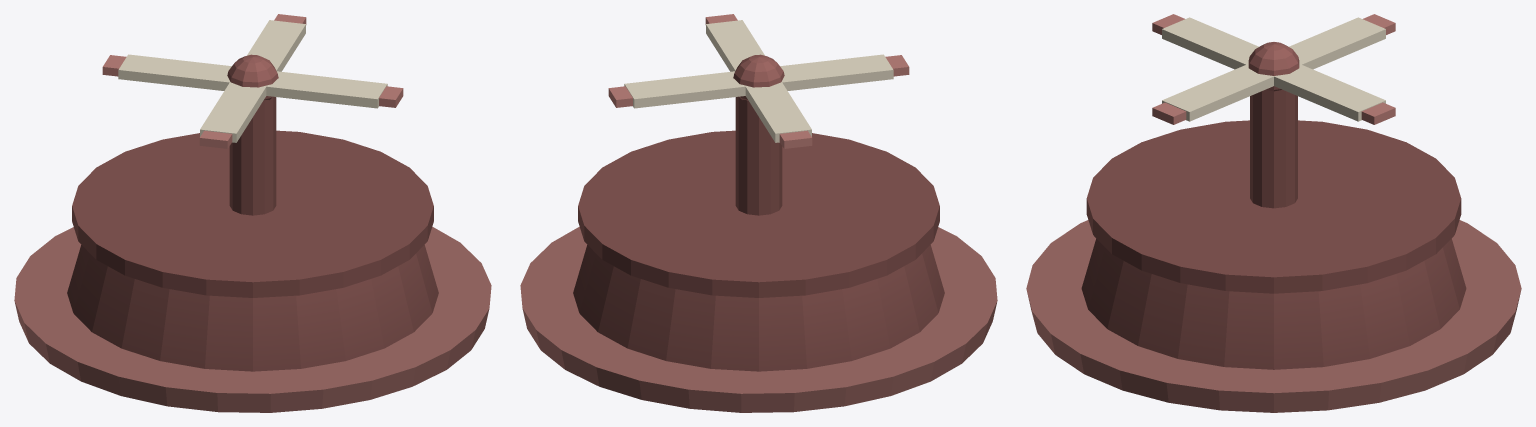
The model's file is propeller.glb.
The picture shows the model from 3 angles, left to right: view 1: azimuth 30°, elevation 25°; view 2: azimuth 150°, elevation 25°; view 3: azimuth 270°, elevation 25°; orthographic projection. The views are drawn at different scales.
Visible parts, largest first — view 1: hat-propeller, hat-propeller-rotor; view 2: hat-propeller, hat-propeller-rotor; view 3: hat-propeller, hat-propeller-rotor.
Boxes of the visible parts, <box> form: hat-propeller: <box>14,96,491,412</box>; hat-propeller-rotor: <box>102,14,403,148</box>; hat-propeller: <box>520,96,997,412</box>; hat-propeller-rotor: <box>608,14,909,148</box>; hat-propeller: <box>1026,89,1521,412</box>; hat-propeller-rotor: <box>1152,14,1395,124</box>.
Bounding box in the file's own units: 0.164 × 0.0972 × 0.164.
